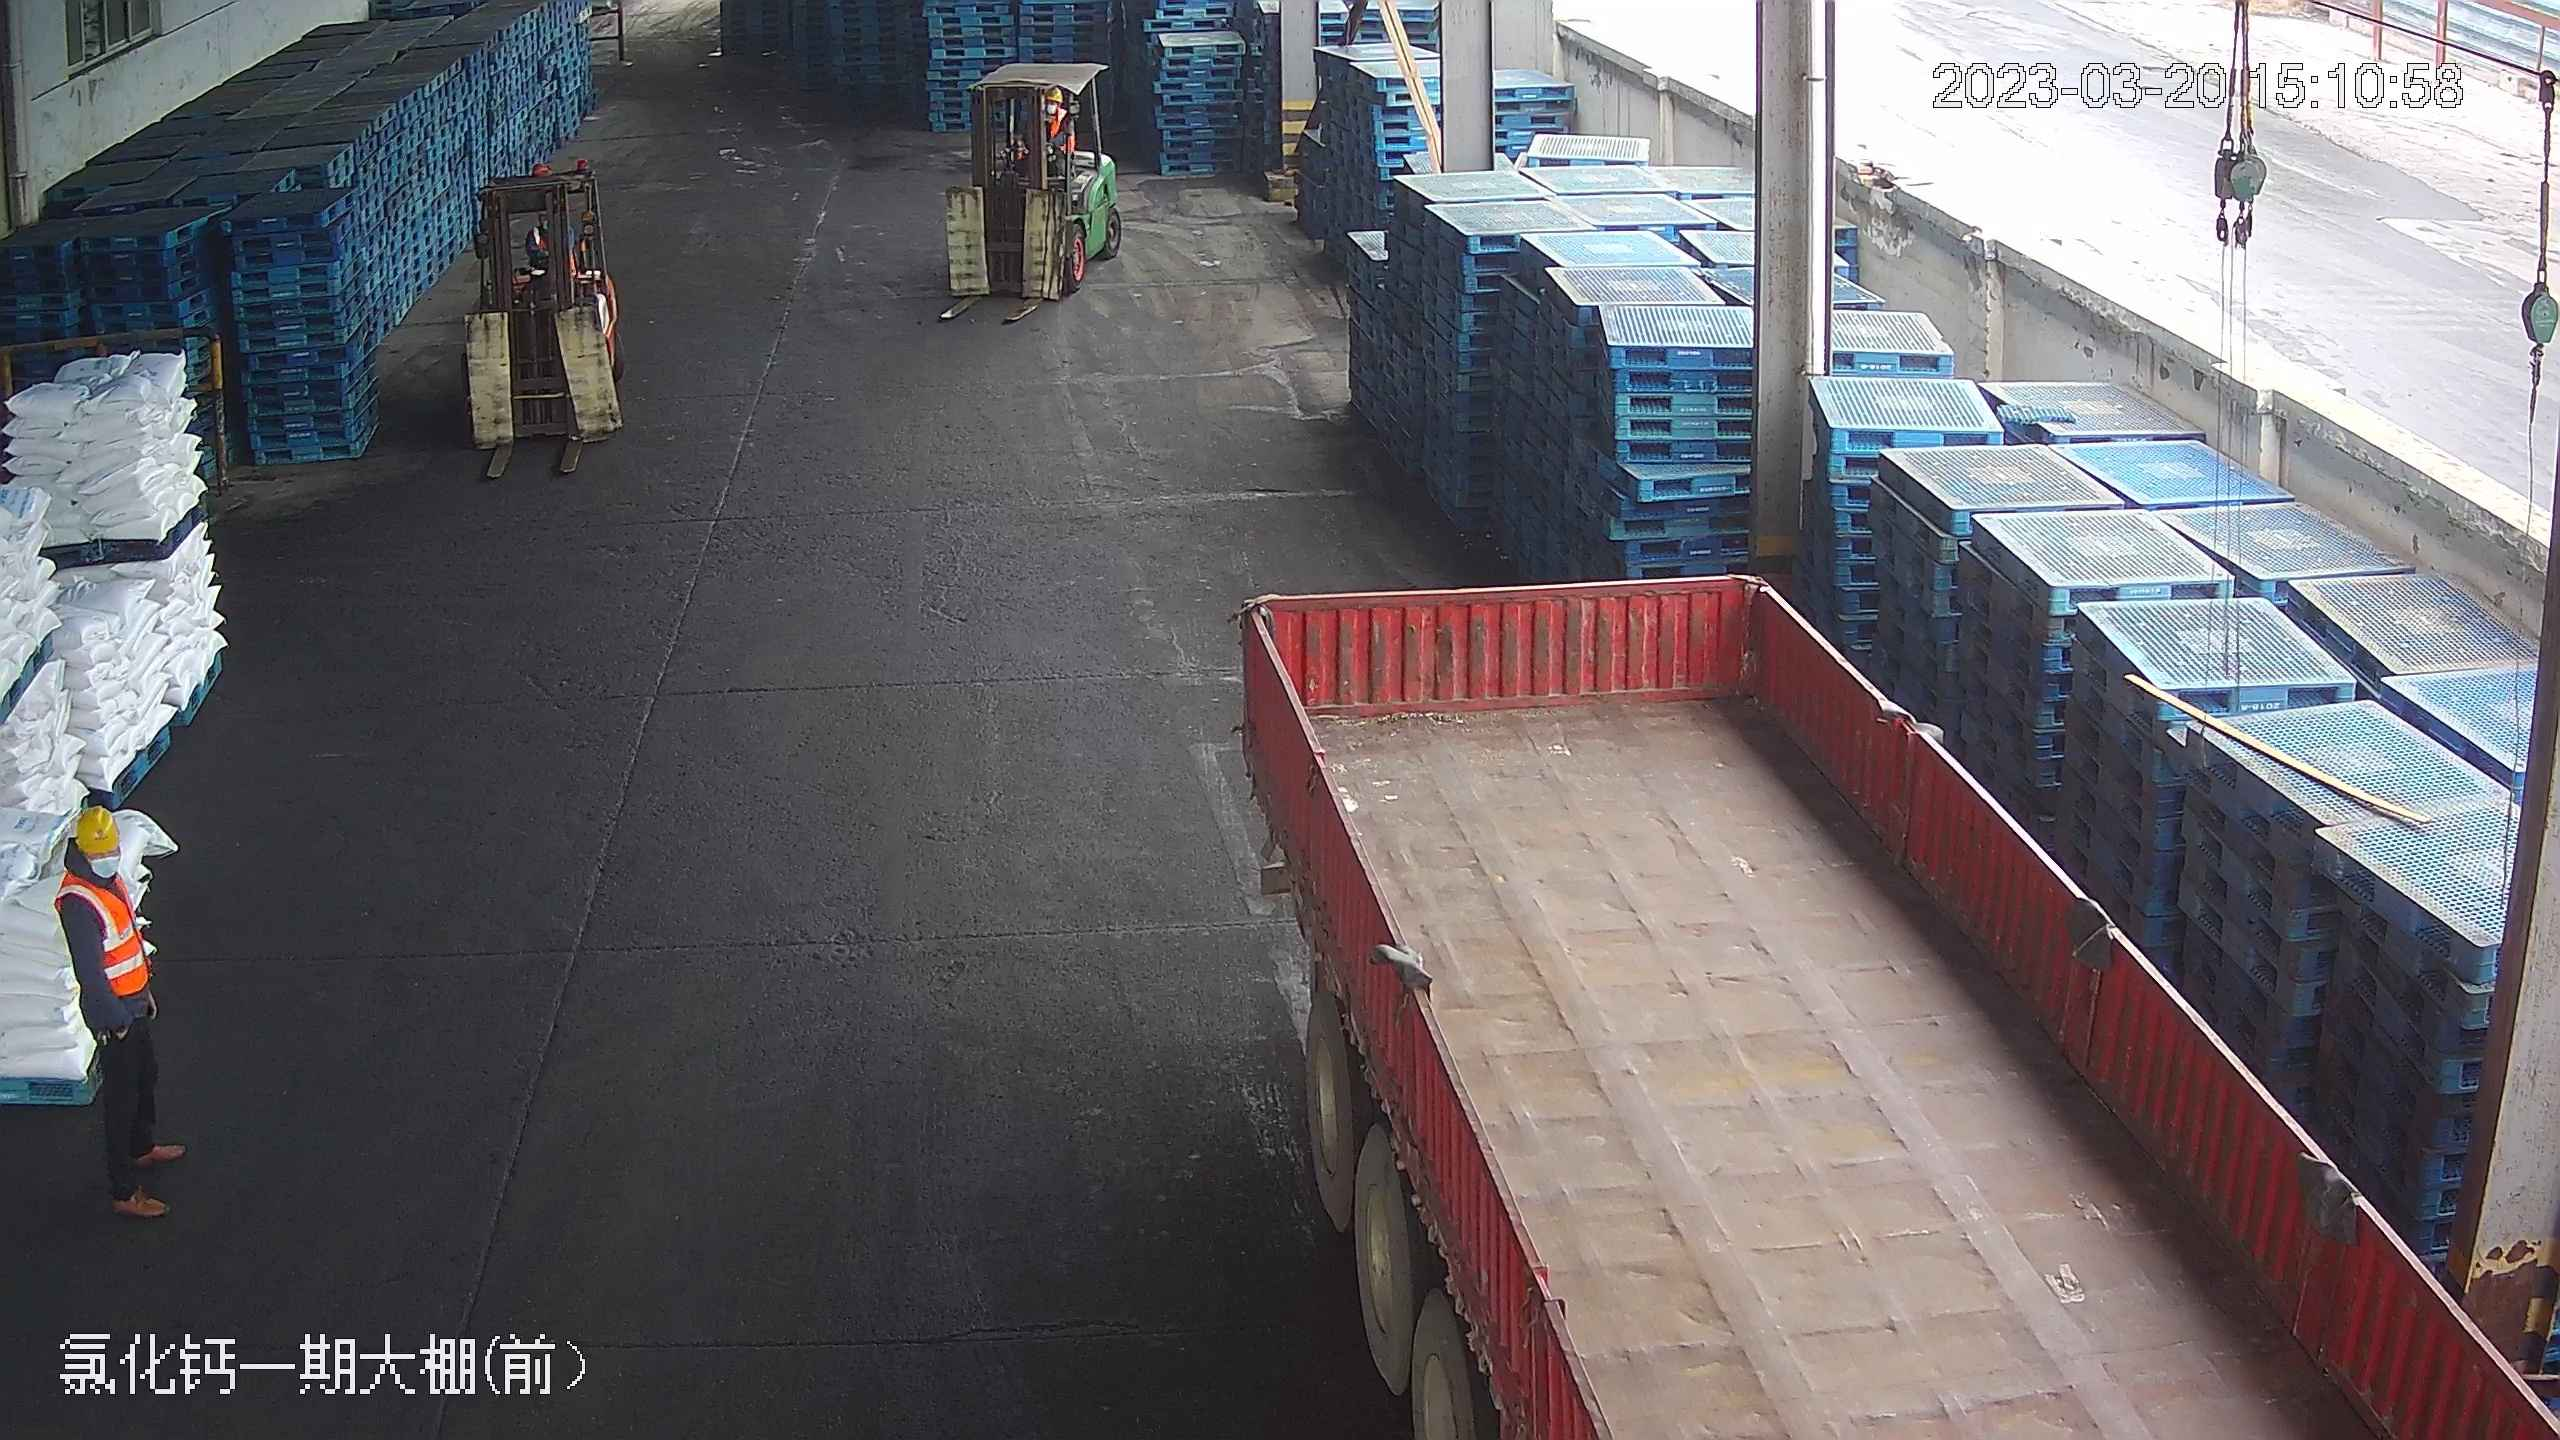head: (49, 801, 144, 924)
helmet: (68, 800, 118, 853), (1045, 87, 1064, 103)
people: (43, 797, 187, 1215)
truck: (1206, 553, 2532, 1431)
